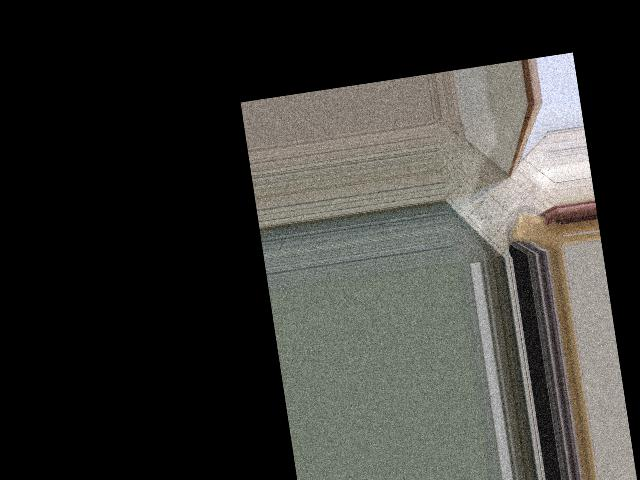cheese: (505, 201, 566, 258)
